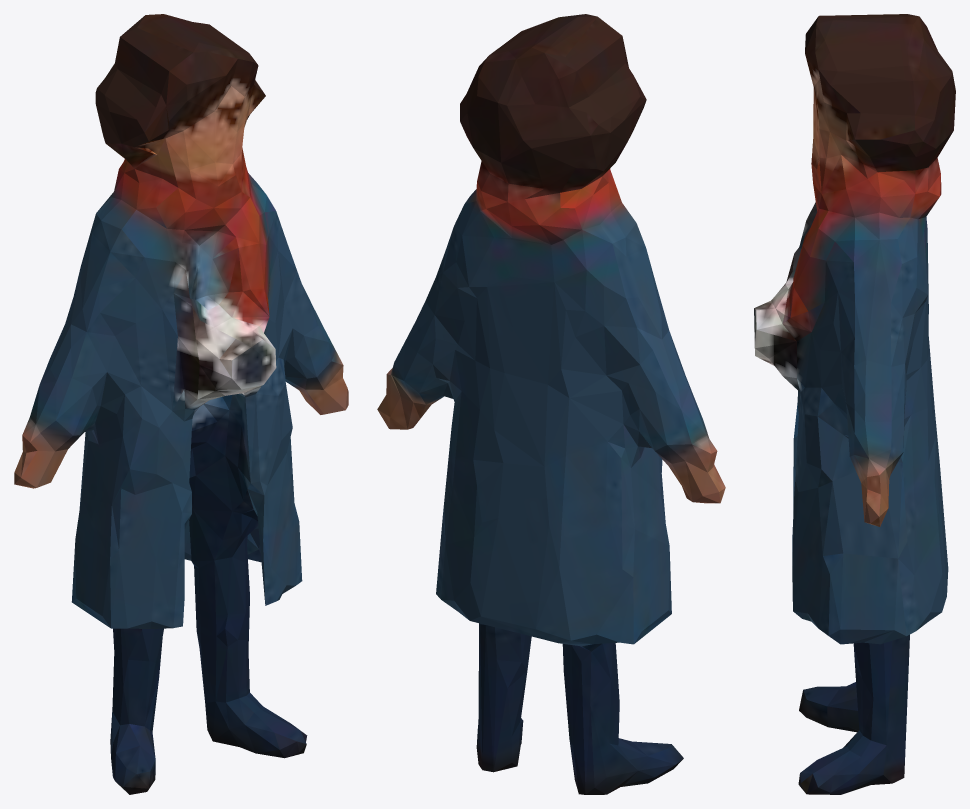
Rendered from habitant-loin.glb.
The picture shows the model from 3 angles, left to right: view 1: azimuth 30°, elevation 25°; view 2: azimuth 150°, elevation 25°; view 3: azimuth 270°, elevation 25°; orthographic projection. The views are drawn at different scales.
Parts seen in each view (by area): view 1: habitant; view 2: habitant; view 3: habitant.
Boxes of the visible parts, box(x1,y1,x2,y2) form: habitant: box(14, 14, 348, 794); habitant: box(377, 14, 725, 794); habitant: box(754, 14, 955, 794).
Bounding box in the file's own units: 0.4857 × 1.01 × 0.2517.
1 material, 1 textured.
